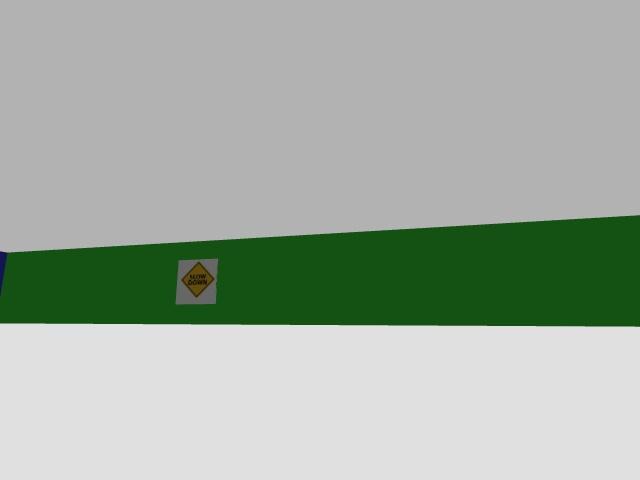slowsign: (176, 260, 218, 304)
